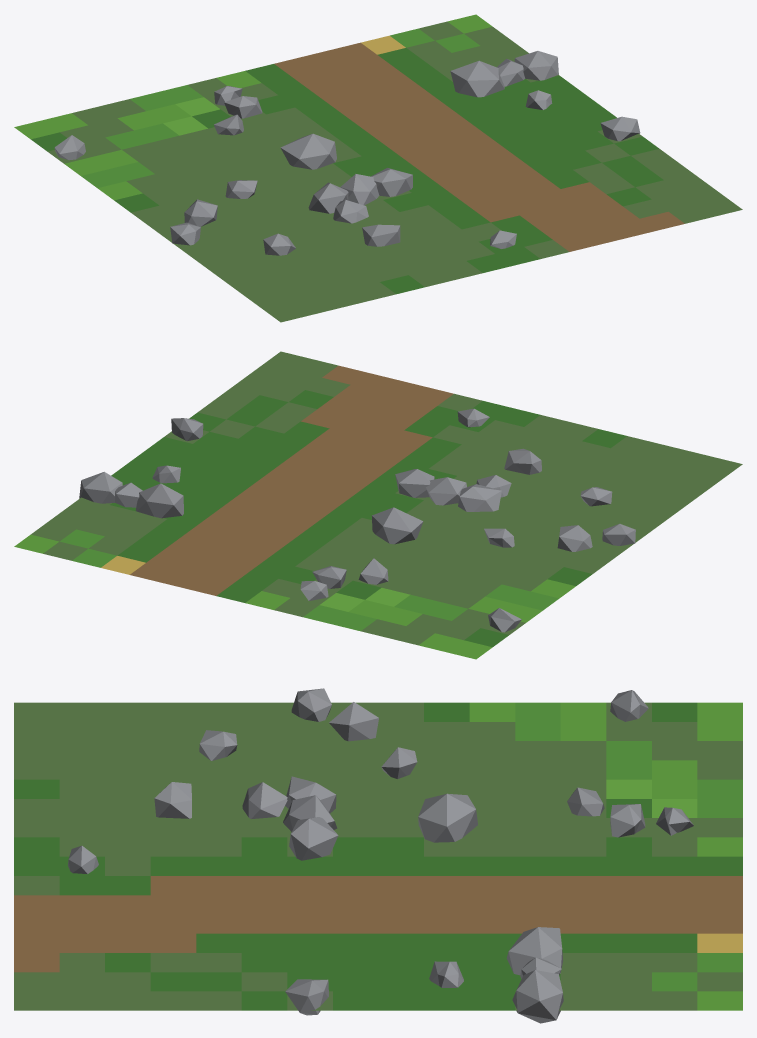
The model's file is chunk_10_14.glb.
3 renders of one model, top to bottom at view 1: azimuth 30°, elevation 25°; view 2: azimuth 150°, elevation 25°; view 3: azimuth 270°, elevation 25°, orthographic. The views are drawn at different scales.
Parts seen in each view (by area): view 1: chunk_10_14; view 2: chunk_10_14; view 3: chunk_10_14.
Part boxes in pixels (box(x1,y1,x2,y2)): chunk_10_14: box(14, 14, 742, 322); chunk_10_14: box(14, 351, 742, 659); chunk_10_14: box(14, 688, 742, 1023).
Bounding box in the file's own units: 16.26 × 1.36 × 16.
